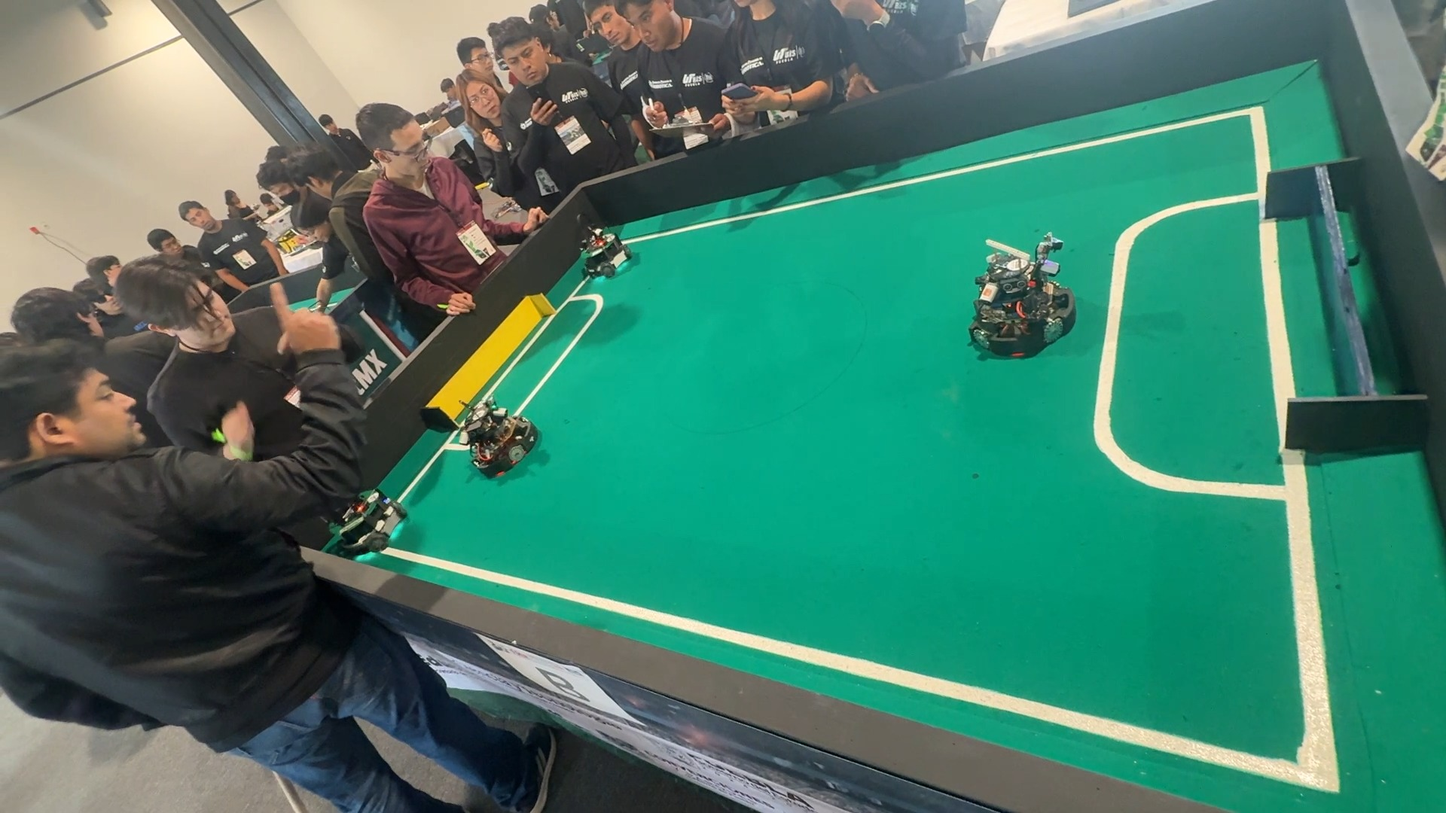Robot: (959, 222, 1080, 371), (446, 391, 548, 491), (578, 215, 643, 288)
